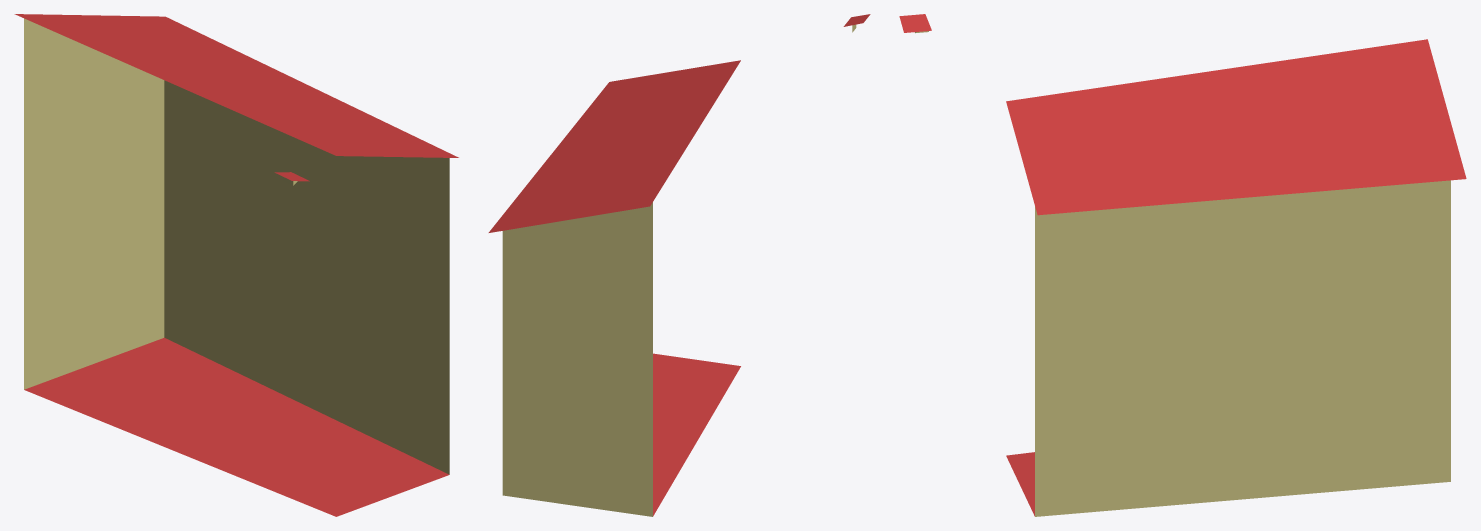
The picture shows the model from 3 angles, left to right: view 1: azimuth 30°, elevation 25°; view 2: azimuth 150°, elevation 25°; view 3: azimuth 270°, elevation 25°; orthographic projection. The views are drawn at different scales.
Bounding box in the file's own units: 5.28 × 10.69 × 8.16.
